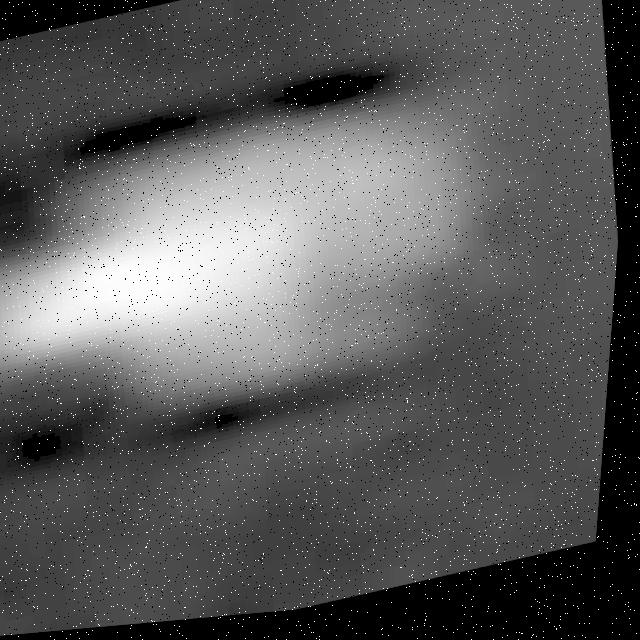person: (1, 65, 551, 455)
